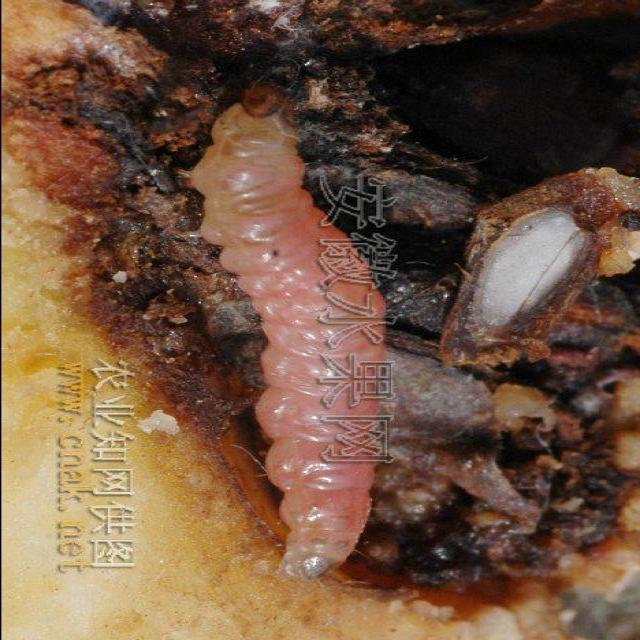peach borer: (186, 88, 401, 586)
